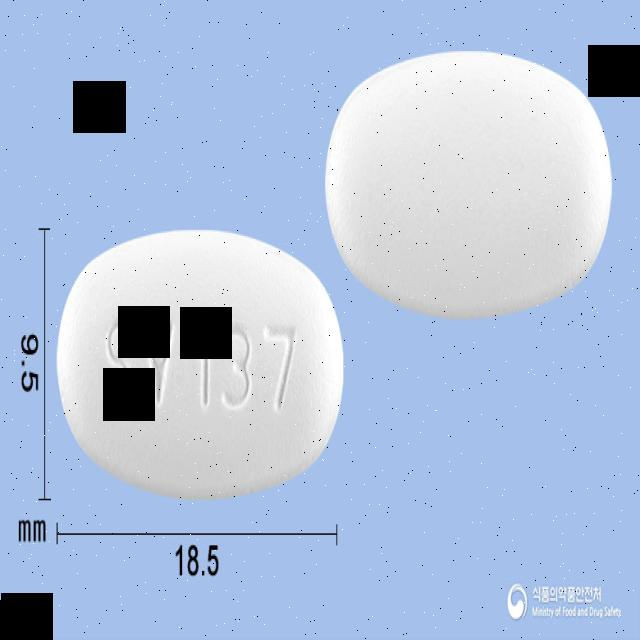Dovato: (58, 228, 344, 500)
